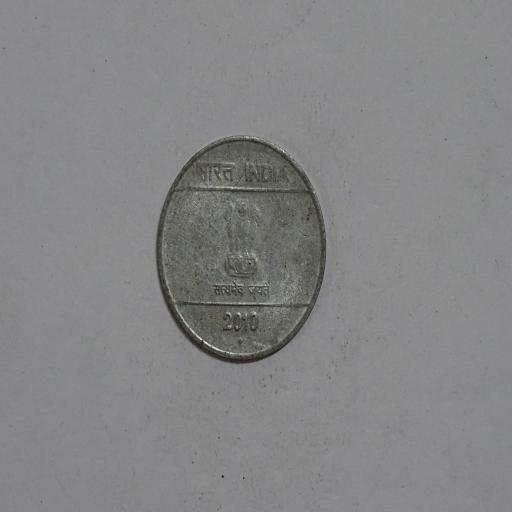rupee2: (152, 132, 330, 366)
